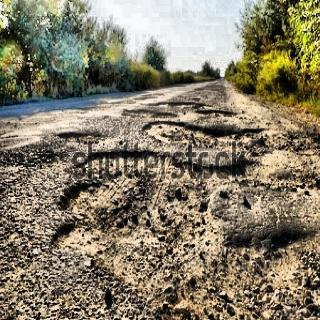pothole: (52, 141, 311, 320), (121, 97, 265, 153), (58, 128, 98, 146)
